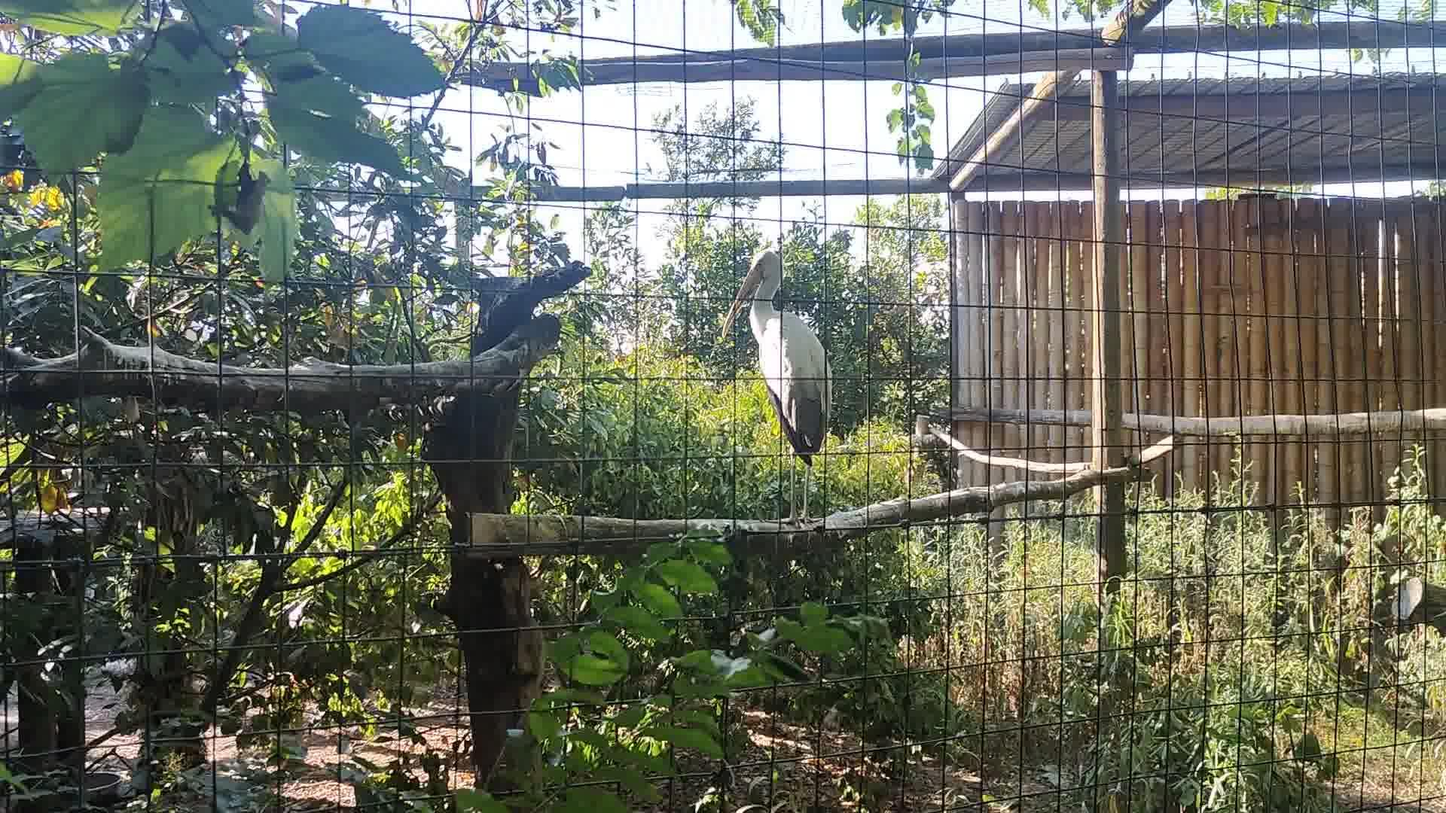apple: (722, 248, 833, 528)
